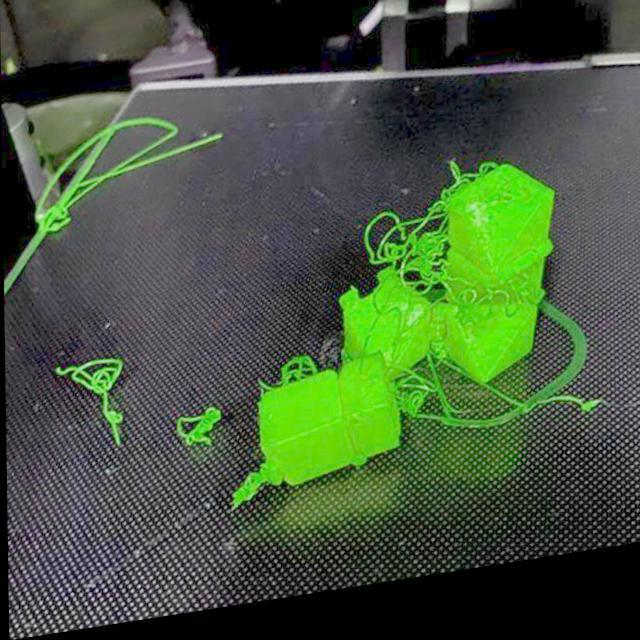spaghetti: (362, 162, 552, 352), (32, 112, 222, 236), (52, 354, 130, 458), (390, 369, 437, 432)
